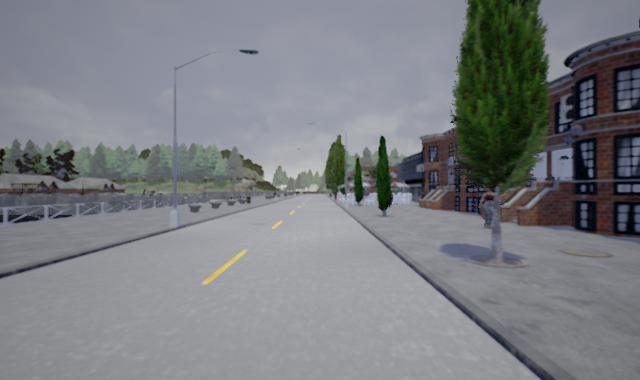pedestrian: (475, 183, 500, 229)
